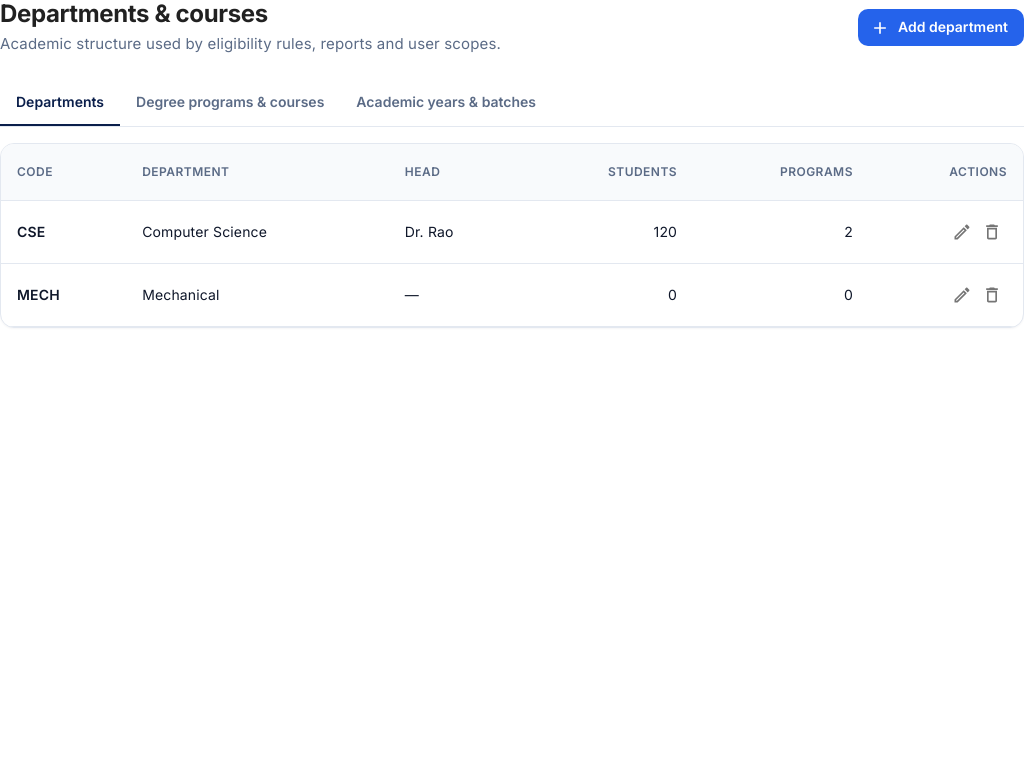
Test: deleting › an unused department is deleted after confirmation and the overview reloads
This screenshot has width=1024, height=768.
Click the button named "Delete MECH" at (992, 295), box [977,280,1007,310]
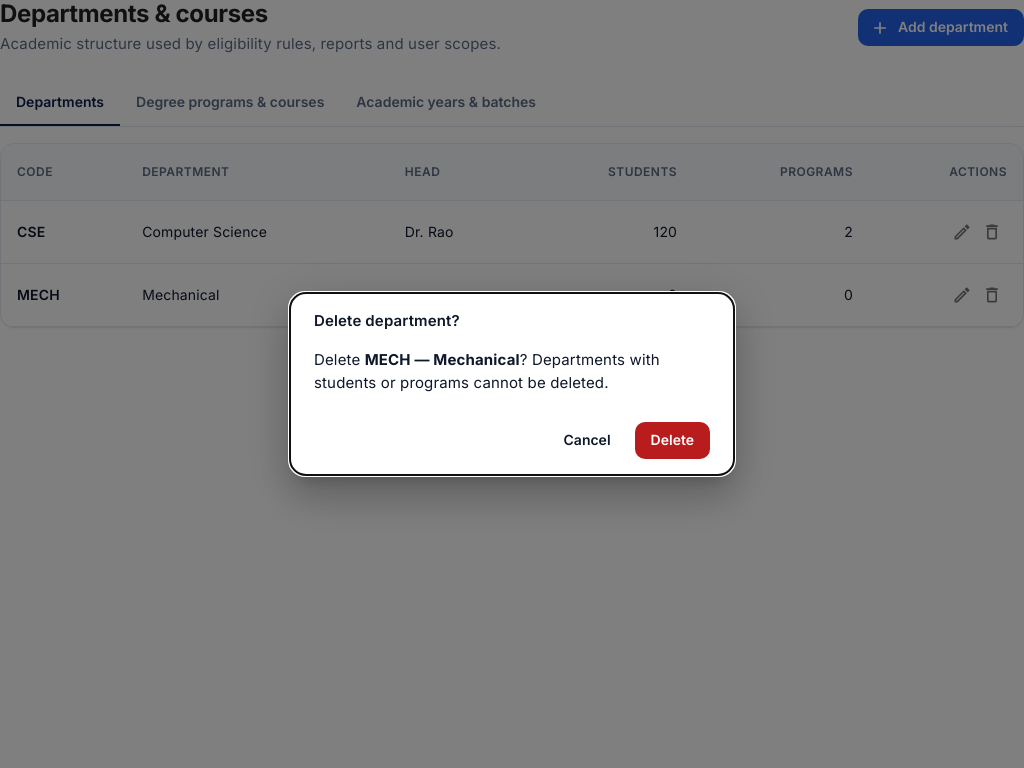
Check: the text "MECH — Mechanical" is shown, box [365,350,520,369]
Click the button "Delete" at (672, 441), box [635,422,710,459]
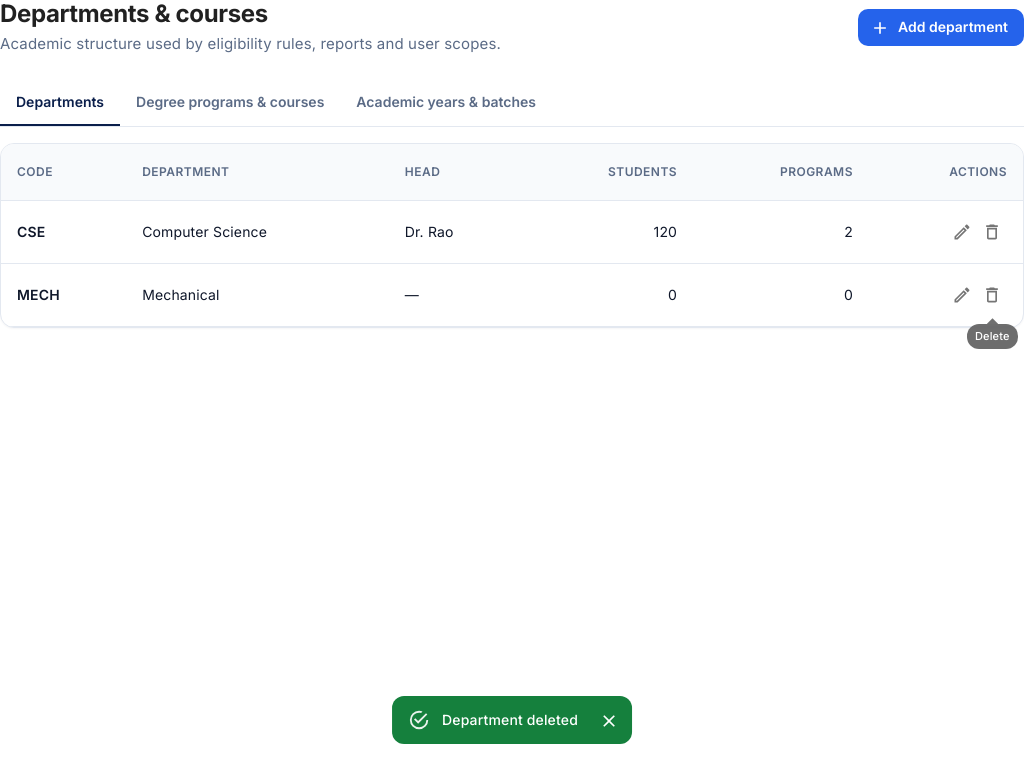
Check: the text "Department deleted" is shown, box [442,711,578,728]
